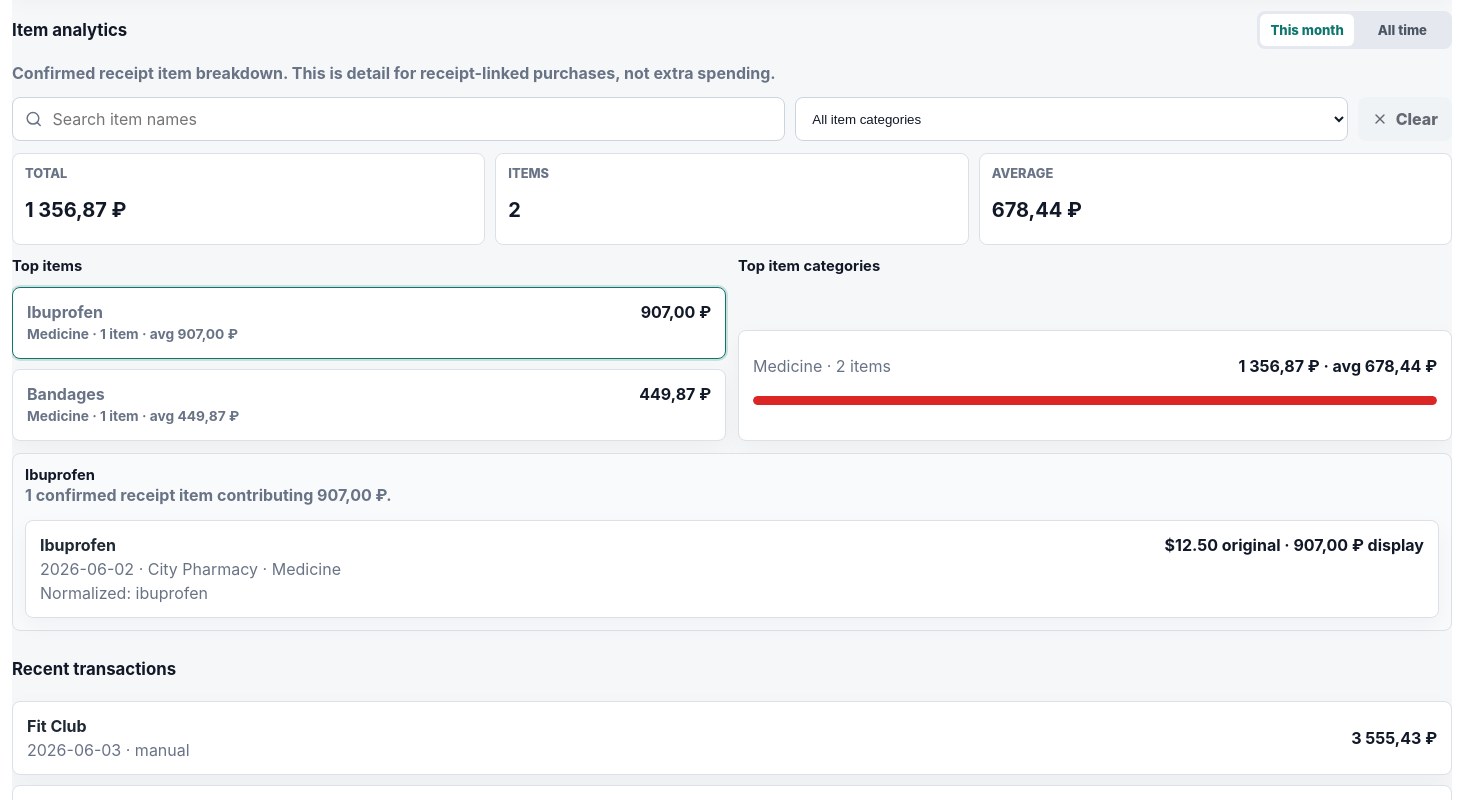
DashboardPage › shows item detail rows with original and display amounts
This screenshot has width=1464, height=800.
(page scrolled)
Click the button "Bandages Medicine · 1 item · avg 449,87 ₽ 449,87 ₽".
click(66, 394)  # box left=12, top=369, right=726, bottom=441
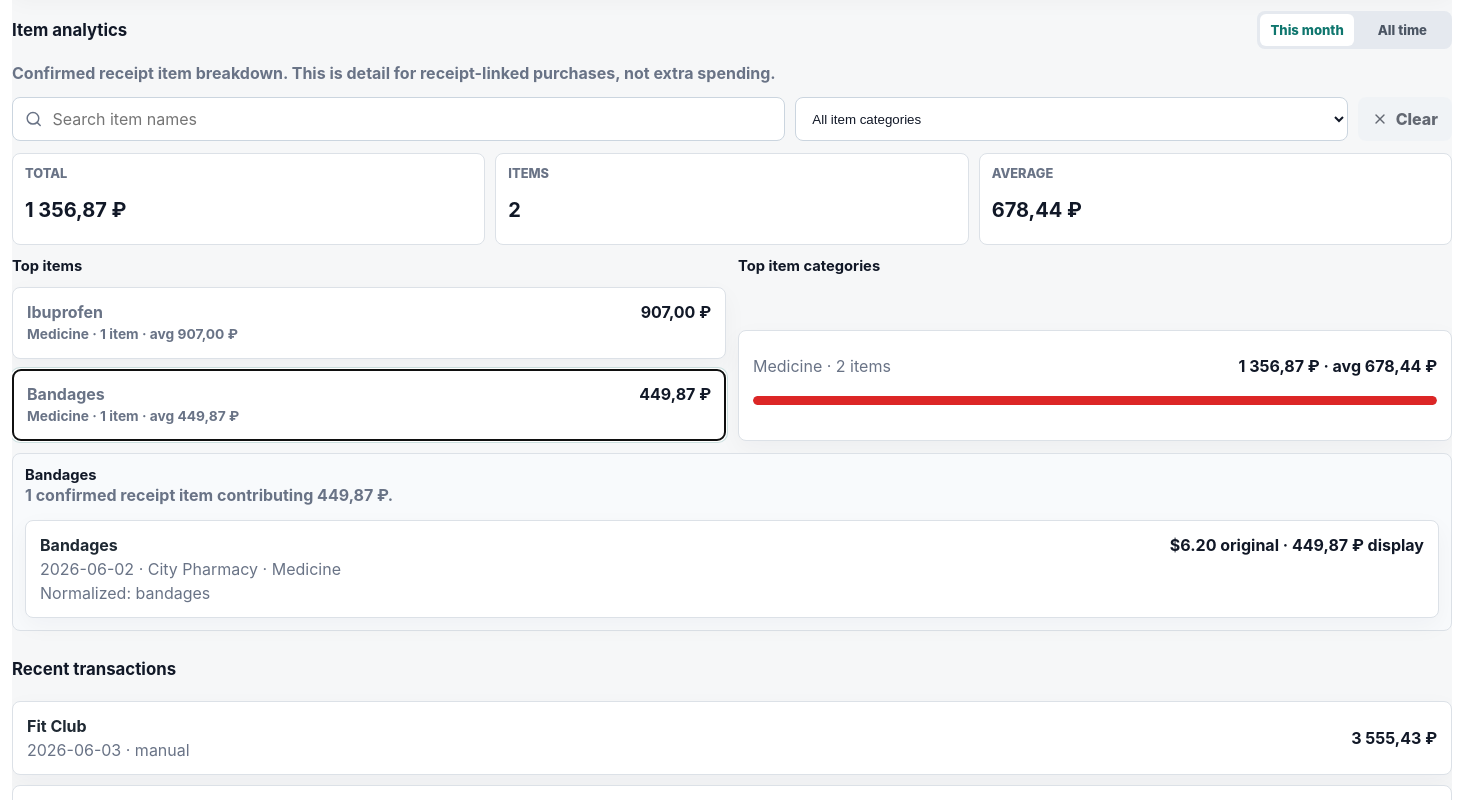
Expected: the text "2026-06-02 · City Pharmacy · Medicine" is shown, left=40, top=559, right=341, bottom=579
Now the text "Normalized: bandages" is shown, box left=40, top=583, right=210, bottom=603
